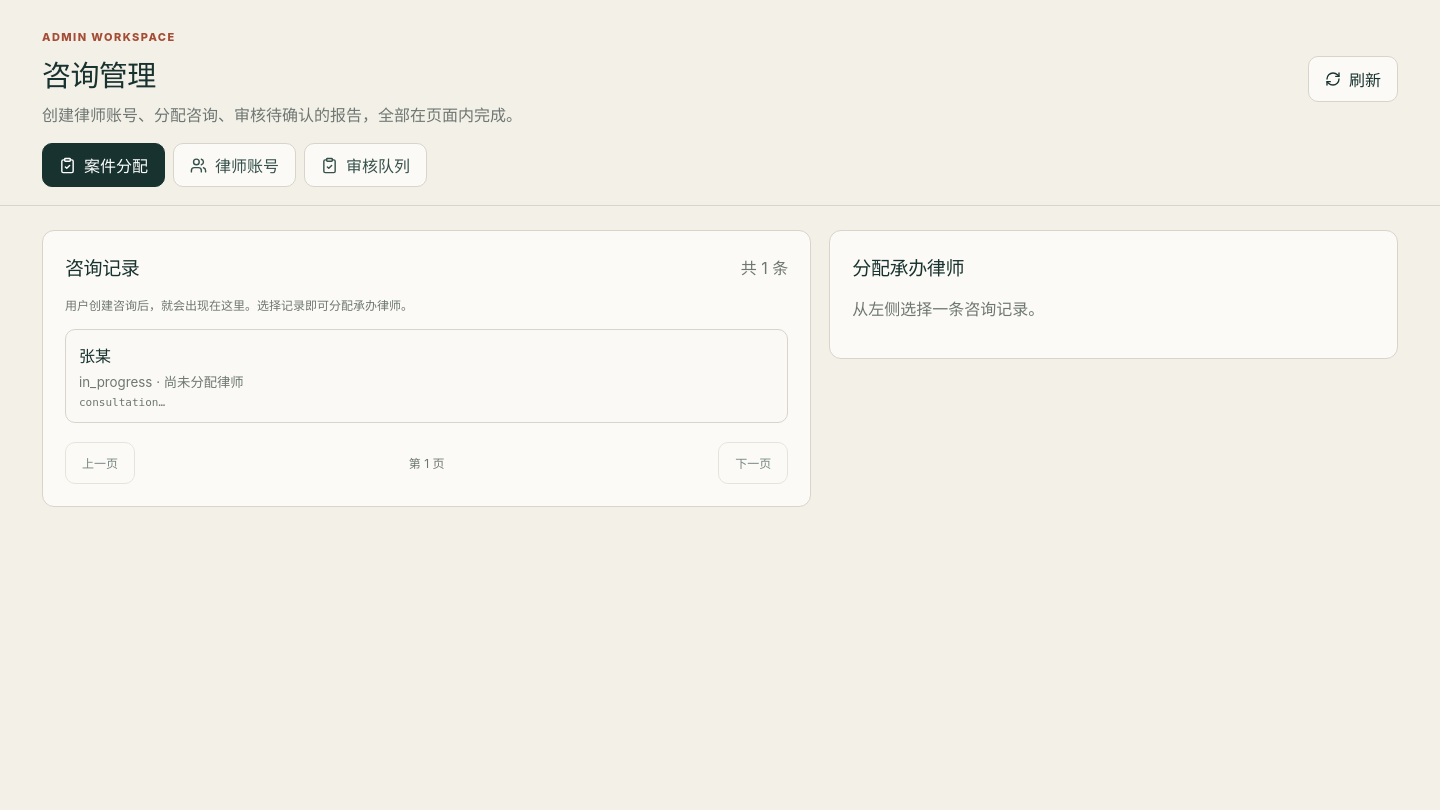
Test case: AdminWorkspace basic operations › assigns a consultation to a lawyer by clicking buttons instead of hand-written API requests
Click the button "张某 in_progress · 尚未分配律师 consultation…" at (95, 356), box [65,329,788,423]
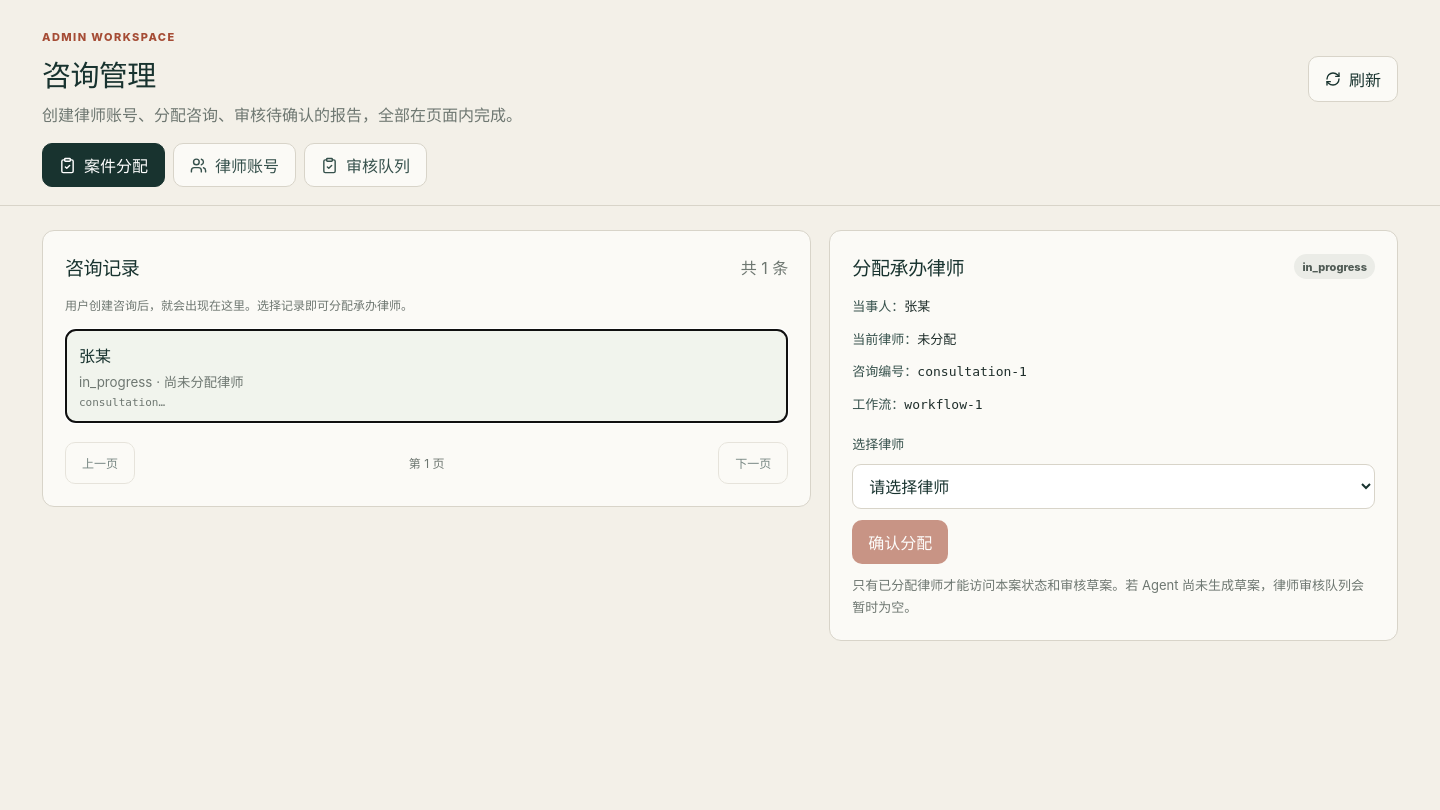
Select "演示律师（demo-lawyer）" in the dropdown labelled "选择律师" at (1114, 487), box [852,464,1375,509]
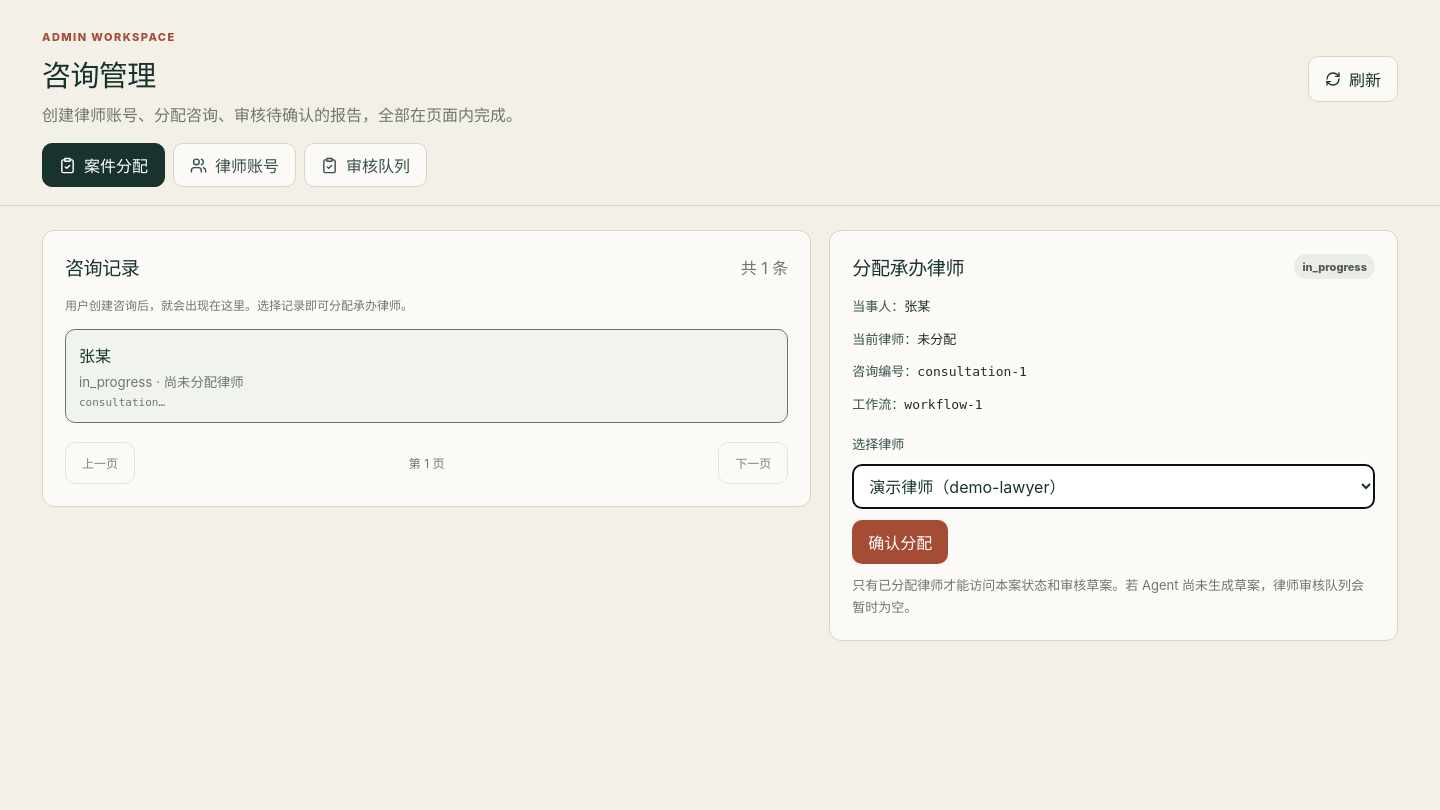
Click the button "确认分配" at (900, 542), box [852,520,948,564]
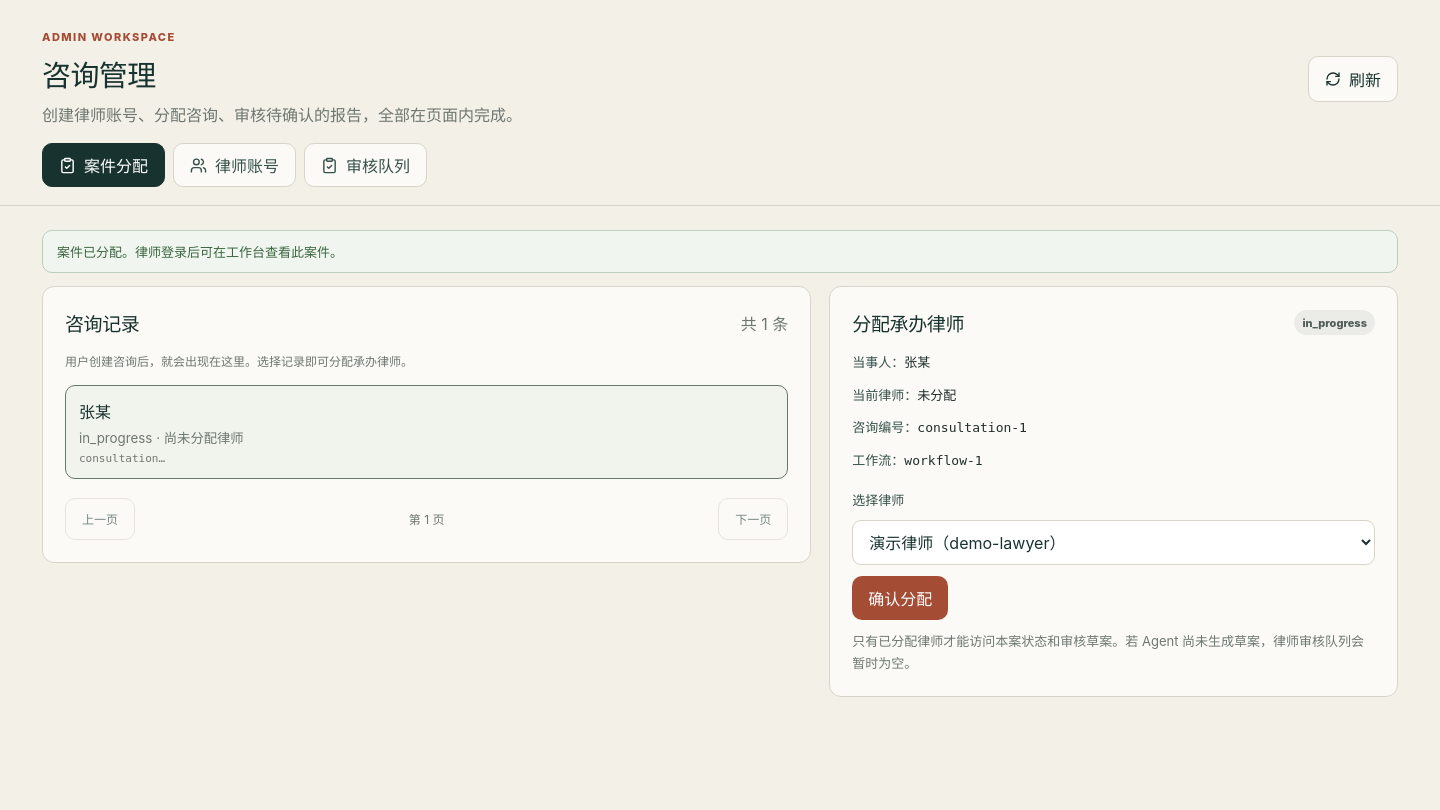
Expected: the message shows "案件已分配", [57,244,343,260]
